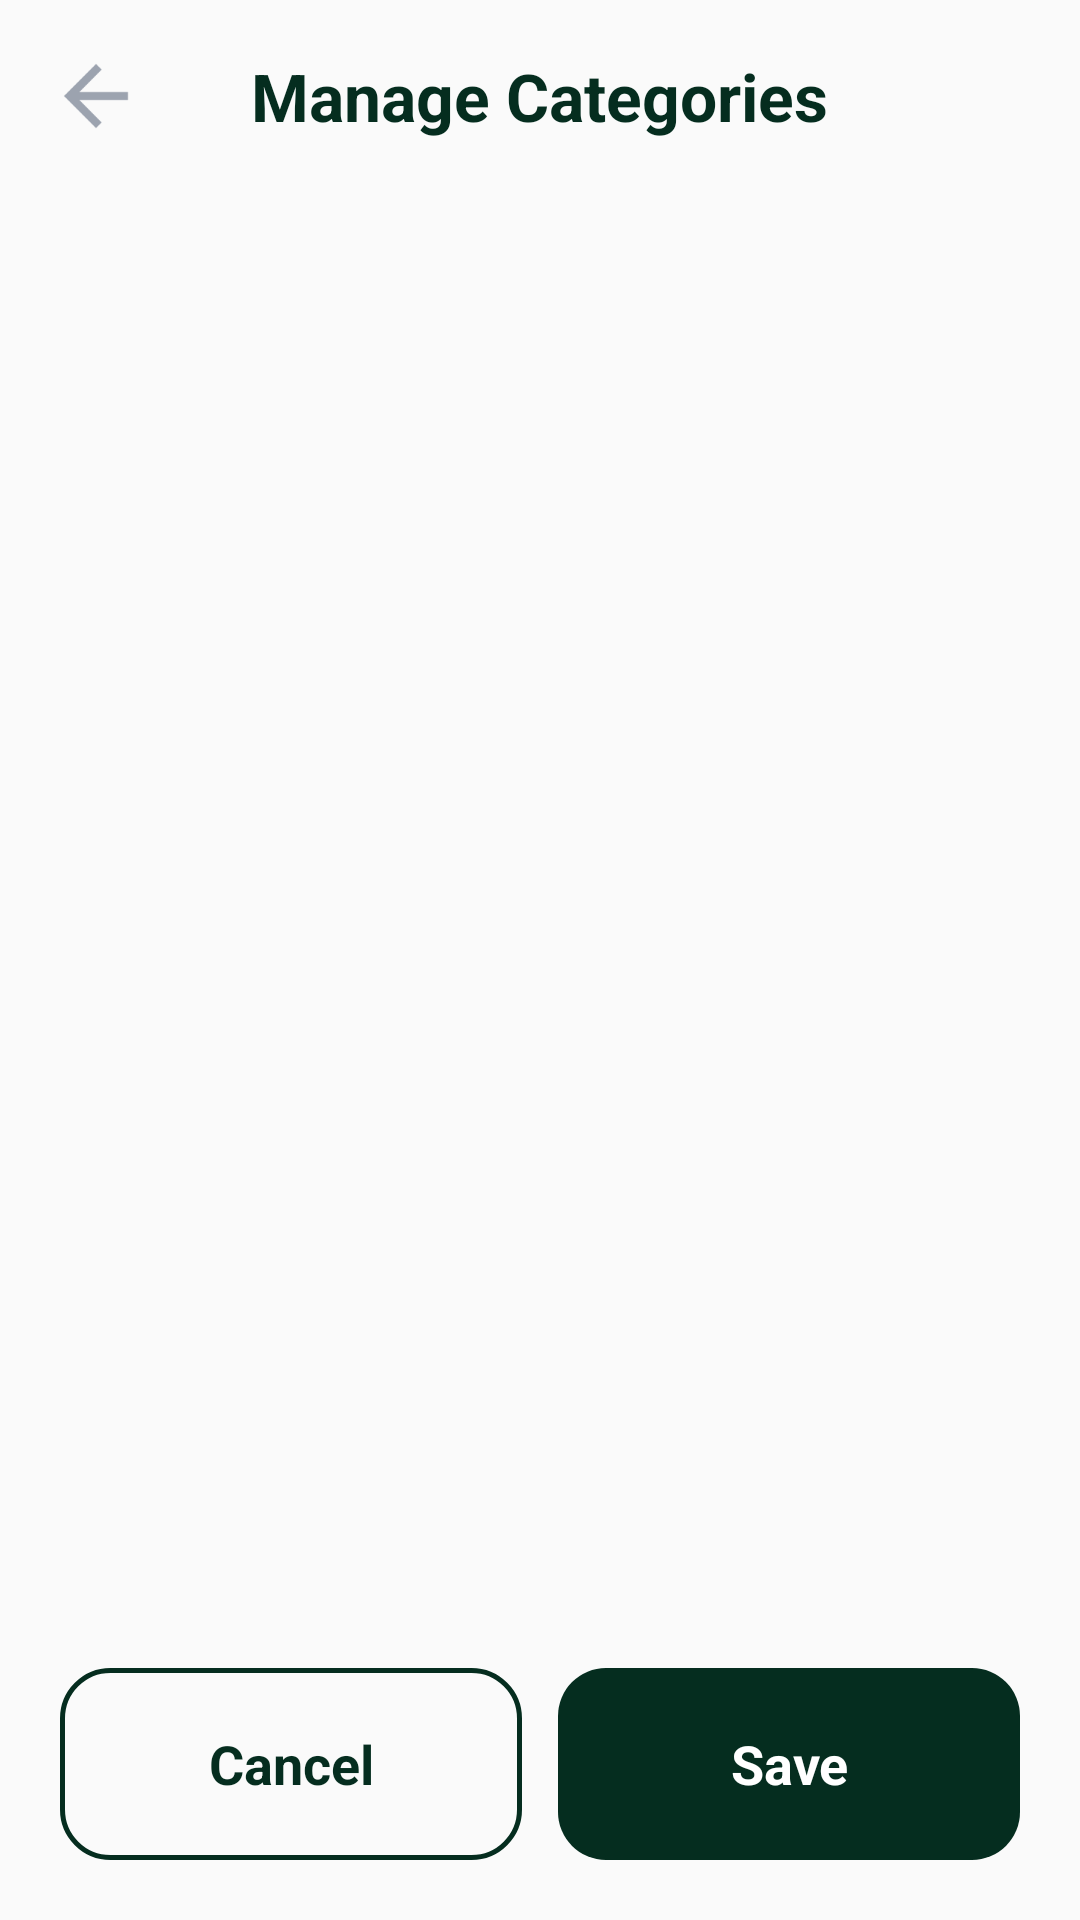

Point at icon controls on the screen. Image size 1080×1920, points as point (x, y).
Back: point (96, 96)
